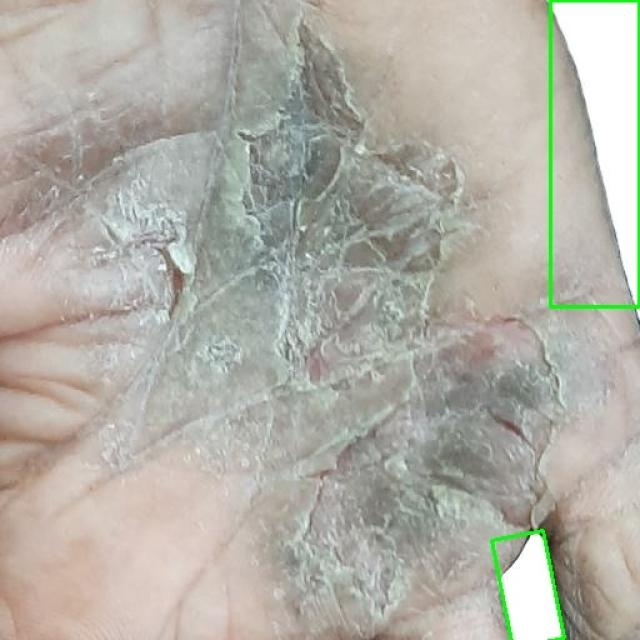Contact Dermatitis: (550, 0, 639, 308), (492, 530, 564, 640)
